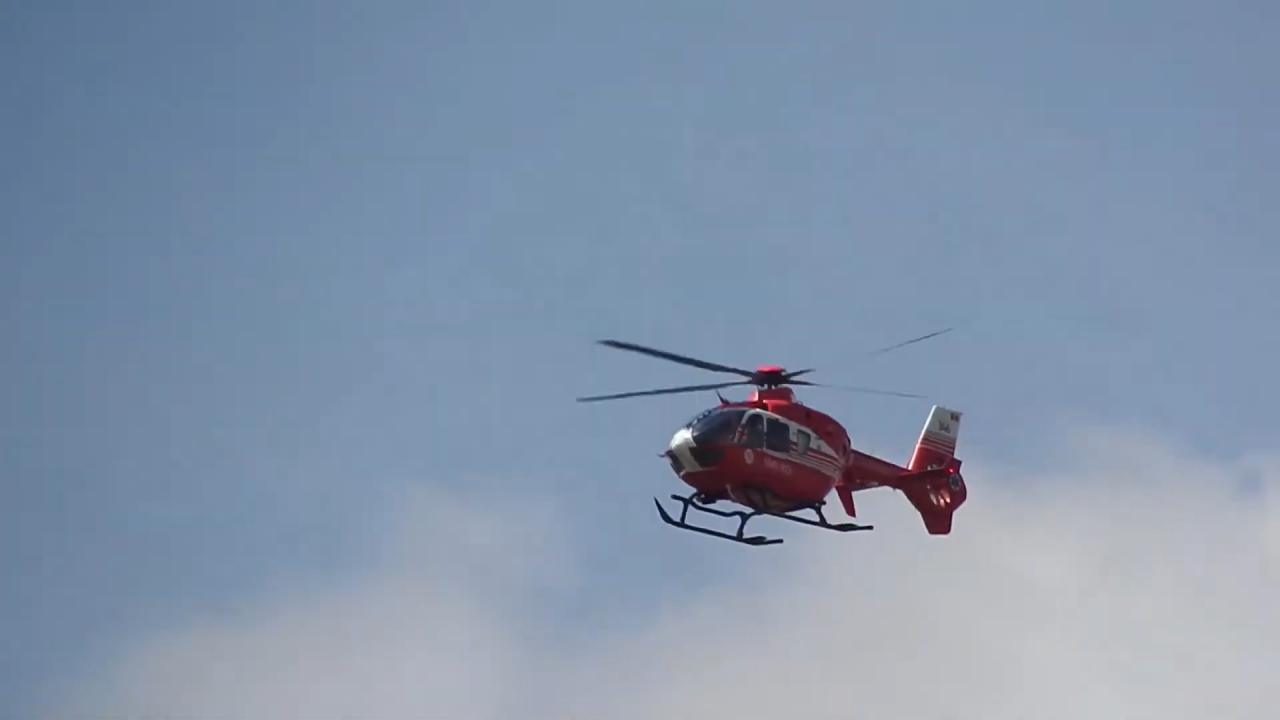Helicopter: (566, 312, 994, 554)
